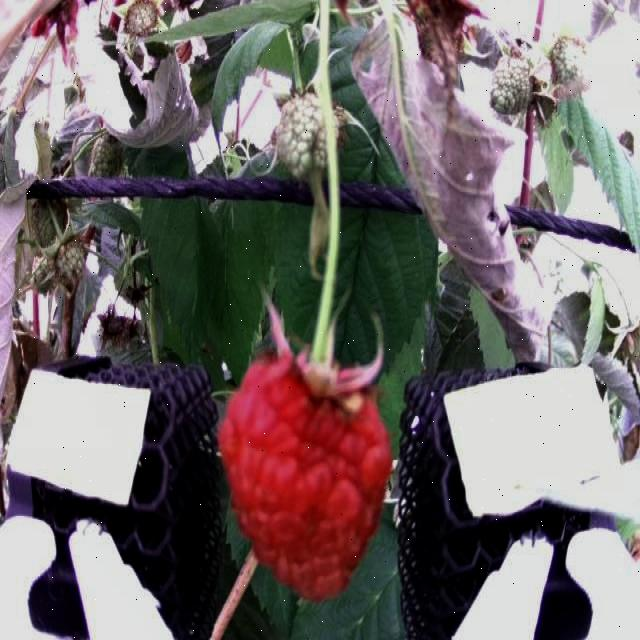Riped berries: (217, 346, 393, 602)
